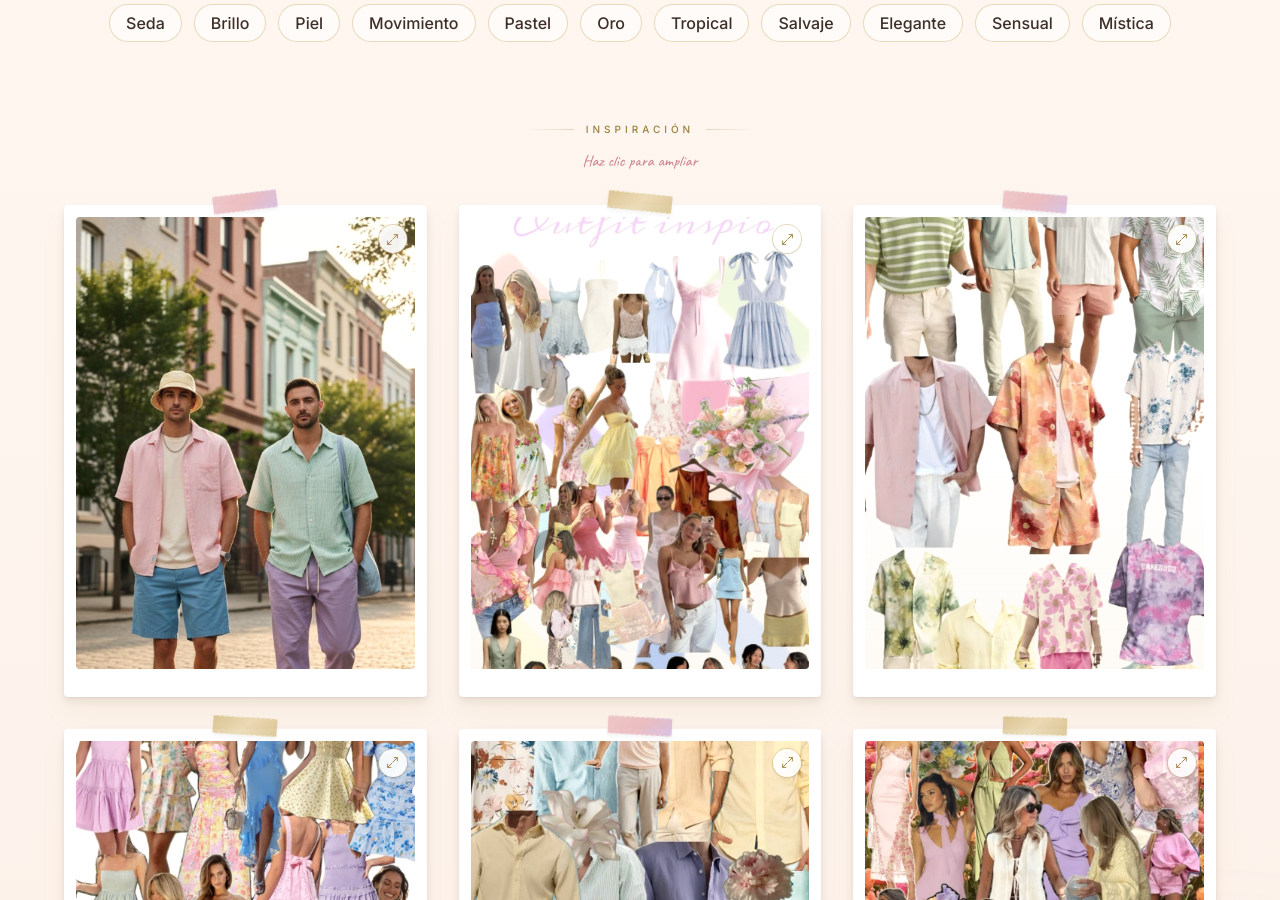
Test: Chapter6SummerPastel › opens a fullscreen lightbox when a look polaroid is clicked
(page scrolled)
Click the button named "open look 1 in full size": [245, 451] box [64,205,427,697]
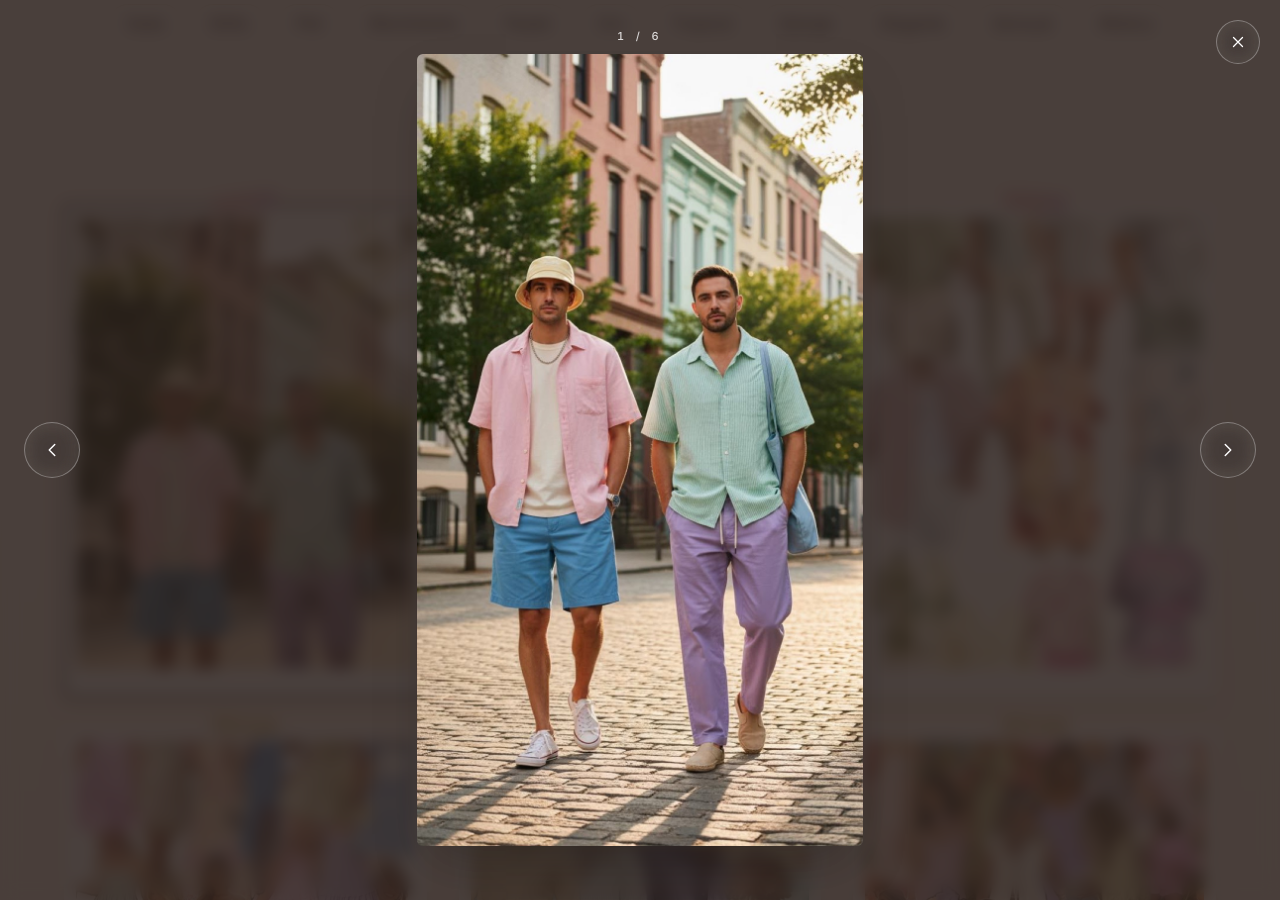
Check: the dialog named "fullscreen" is shown
Check: the picture with alt text "Look 1 fullscreen" is shown, box [417,54,863,846]
